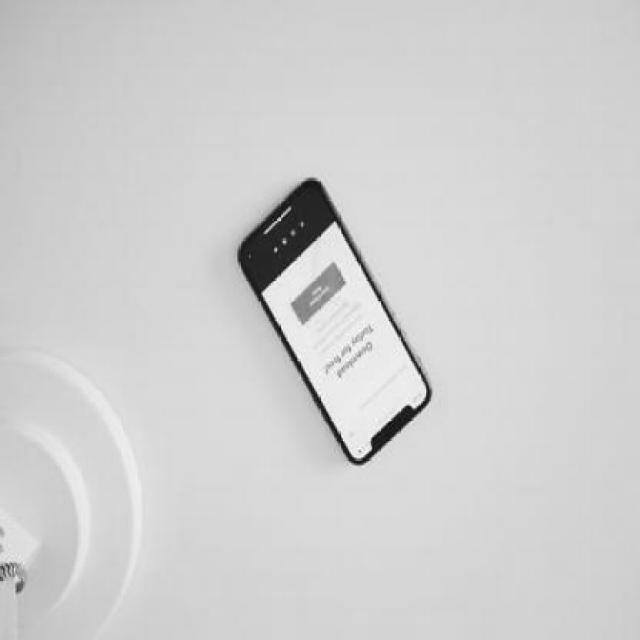fake: (236, 164, 436, 464)
